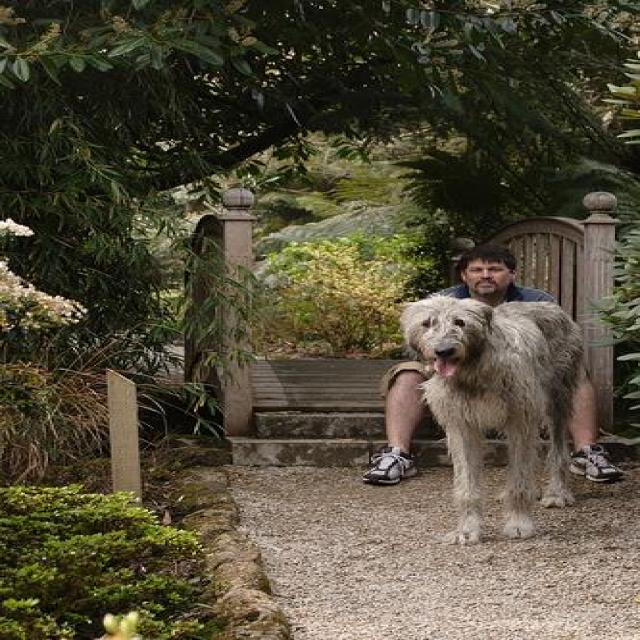irish_wolfhound: (383, 287, 586, 548)
